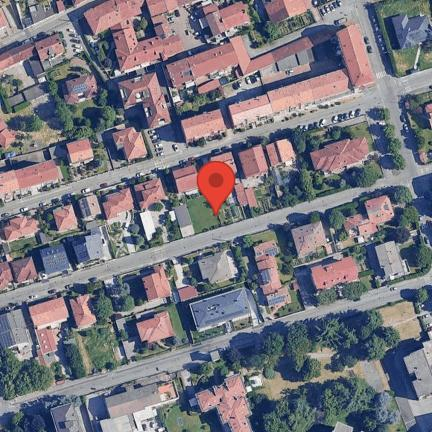area_open: (187, 89, 366, 149), (260, 39, 345, 92), (362, 355, 410, 432), (115, 315, 179, 364), (98, 207, 150, 263), (167, 2, 220, 55), (143, 193, 183, 250), (294, 104, 367, 134), (163, 252, 205, 291), (223, 71, 265, 105), (0, 61, 38, 98), (143, 123, 181, 158), (213, 190, 245, 226), (41, 224, 86, 248), (60, 21, 86, 60), (371, 78, 403, 109), (312, 0, 357, 22), (368, 10, 390, 55), (83, 390, 110, 425), (414, 287, 432, 333), (172, 368, 196, 402), (243, 170, 277, 190), (42, 52, 69, 73)
built: (230, 28, 335, 77), (99, 379, 179, 432), (111, 21, 187, 71), (196, 373, 252, 432), (117, 71, 172, 129), (190, 288, 259, 332), (337, 23, 377, 88), (83, 0, 143, 38), (402, 329, 432, 401), (310, 138, 371, 172), (186, 42, 238, 79), (310, 255, 360, 293), (291, 221, 338, 258), (387, 13, 432, 51), (267, 80, 316, 114), (198, 247, 240, 284), (309, 68, 354, 102), (0, 308, 34, 353), (181, 109, 227, 142), (28, 295, 70, 331), (15, 159, 62, 190), (229, 94, 274, 126), (375, 241, 411, 279), (38, 242, 74, 279), (17, 0, 65, 27), (137, 310, 175, 343), (1, 42, 38, 75), (63, 74, 102, 104), (237, 144, 270, 179), (262, 0, 310, 24), (73, 228, 104, 264), (143, 265, 172, 303), (33, 31, 68, 62), (102, 188, 135, 220), (133, 178, 167, 209), (70, 293, 98, 330), (219, 0, 251, 31), (51, 402, 84, 432), (10, 256, 41, 287), (172, 163, 201, 195), (4, 216, 39, 242), (364, 195, 395, 224), (265, 139, 297, 167), (23, 73, 52, 103), (166, 58, 195, 88), (210, 151, 238, 180), (174, 203, 196, 238), (67, 137, 95, 164), (123, 131, 147, 161), (36, 326, 59, 356), (53, 205, 78, 231), (234, 182, 258, 209), (205, 10, 228, 37), (267, 286, 292, 309), (254, 240, 280, 262), (342, 214, 365, 237), (0, 117, 16, 150), (0, 170, 20, 196), (141, 212, 158, 242), (79, 195, 101, 218), (0, 260, 15, 293), (0, 4, 14, 39), (113, 127, 139, 145), (196, 77, 222, 95), (146, 0, 169, 17), (29, 55, 46, 77), (260, 268, 280, 286), (179, 285, 200, 301), (7, 93, 27, 109), (257, 257, 278, 272), (154, 21, 172, 38), (261, 280, 281, 295), (358, 223, 378, 237), (202, 2, 220, 16), (425, 100, 432, 130), (151, 13, 167, 26), (165, 0, 180, 12), (36, 349, 46, 366), (72, 0, 91, 7), (210, 350, 221, 361), (133, 0, 146, 9), (177, 0, 196, 6)
vegetation_high: (189, 306, 400, 432), (49, 75, 128, 141), (278, 133, 320, 210), (0, 343, 55, 400), (378, 186, 424, 243), (383, 236, 431, 287), (313, 278, 369, 309), (0, 402, 56, 432), (328, 198, 364, 242), (88, 276, 115, 324), (63, 340, 88, 380), (33, 203, 57, 233)
vegetation_low: (372, 0, 432, 79), (0, 94, 69, 162), (238, 0, 317, 50), (315, 154, 385, 199), (304, 114, 377, 152), (155, 397, 224, 432), (78, 323, 121, 378), (169, 84, 227, 120), (388, 297, 428, 349), (404, 91, 432, 165), (105, 270, 149, 315), (166, 301, 203, 350), (339, 236, 376, 281), (57, 154, 109, 186), (186, 190, 222, 235), (49, 52, 99, 84), (91, 31, 123, 81), (269, 282, 307, 321), (200, 315, 256, 341), (275, 231, 299, 287), (198, 273, 250, 298), (243, 185, 279, 219), (1, 234, 44, 262), (244, 228, 278, 249), (293, 249, 328, 267), (89, 132, 107, 156), (335, 422, 355, 432)
